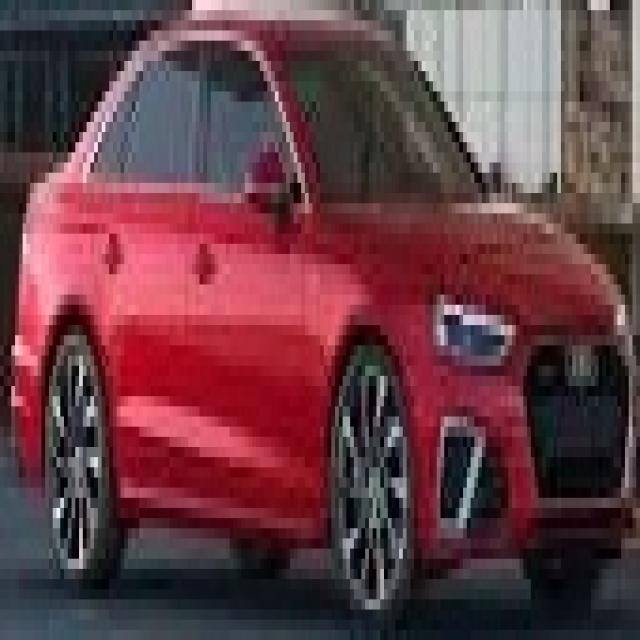red: (13, 0, 640, 586)
